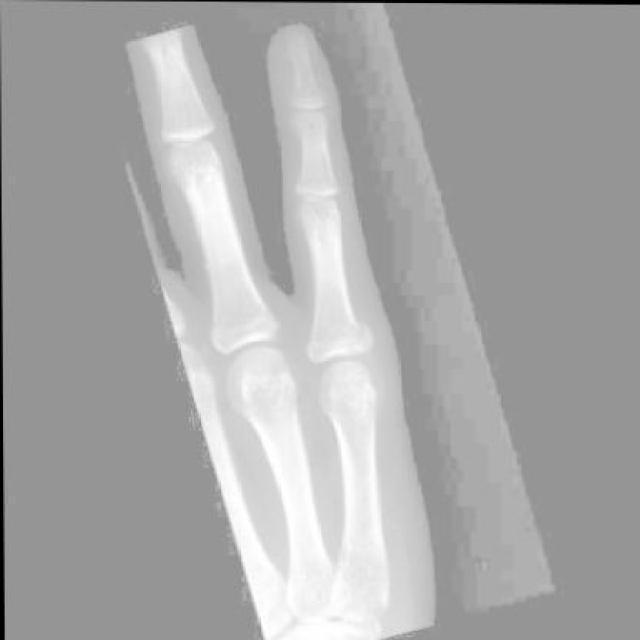Fracture: (291, 303, 378, 370)
